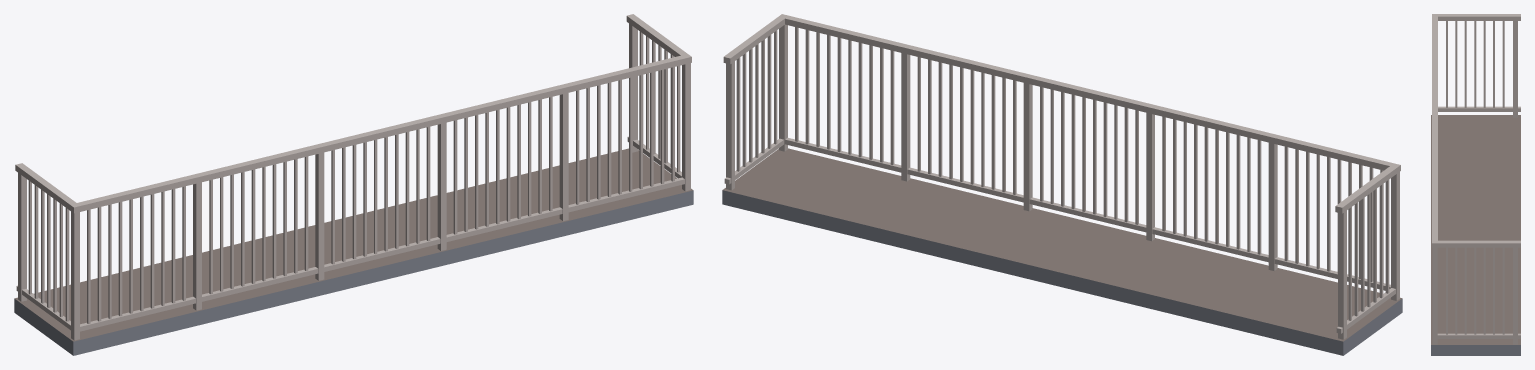
Rendered from SM_Fixture_BalconyFull_AluBars_546_01.gltf.
The picture shows the model from 3 angles, left to right: view 1: azimuth 30°, elevation 25°; view 2: azimuth 150°, elevation 25°; view 3: azimuth 270°, elevation 25°; orthographic projection. The views are drawn at different scales.
Visible parts, largest first — view 1: SM_Fixture_BalconyFull_AluBars_546_01; view 2: SM_Fixture_BalconyFull_AluBars_546_01; view 3: SM_Fixture_BalconyFull_AluBars_546_01.
Part boxes in pixels (bbox=[...]): SM_Fixture_BalconyFull_AluBars_546_01: bbox=[14, 14, 693, 355]; SM_Fixture_BalconyFull_AluBars_546_01: bbox=[722, 14, 1402, 355]; SM_Fixture_BalconyFull_AluBars_546_01: bbox=[1431, 14, 1520, 355].
Size of the model in its own units: 5.45 by 1.24 by 0.9.
Materials: 1 (1 with a texture image).
